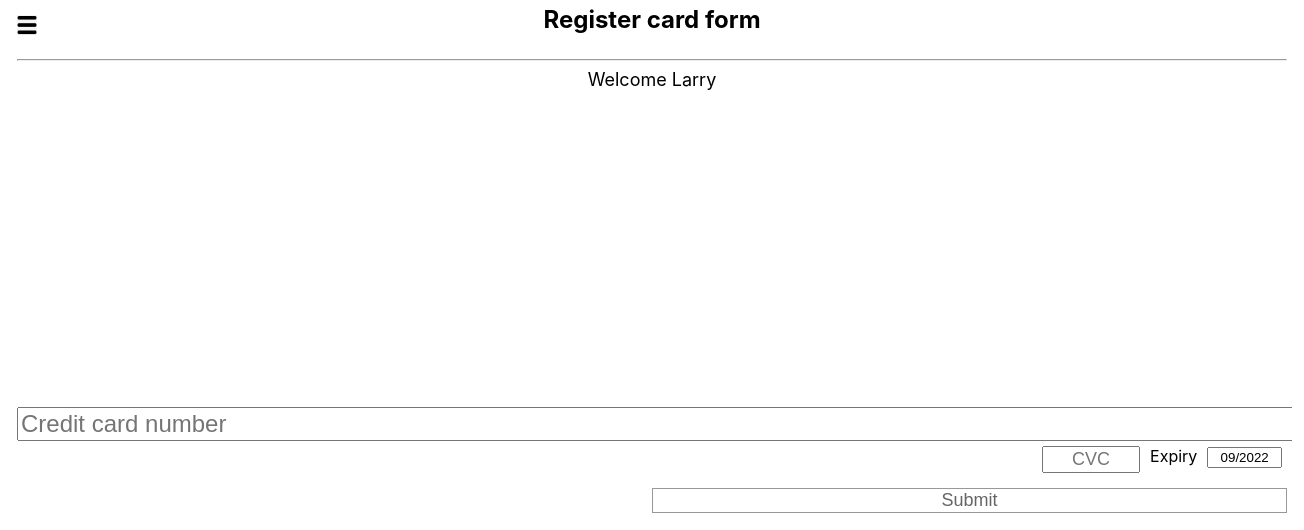
Submit button should be enabled when card number and cvc are not empty
Type "1234567890123456" into the field with placeholder "Credit card number" at (654, 424), box [17, 407, 1292, 441]
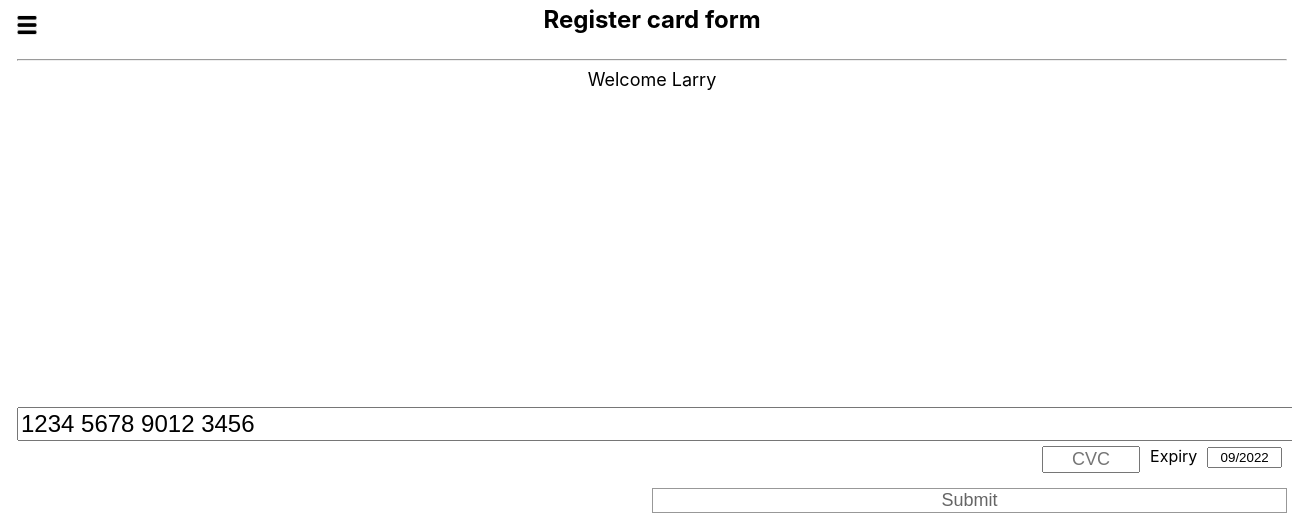
Type "123" into the field with placeholder "CVC" at (1091, 460), box [1042, 446, 1140, 473]
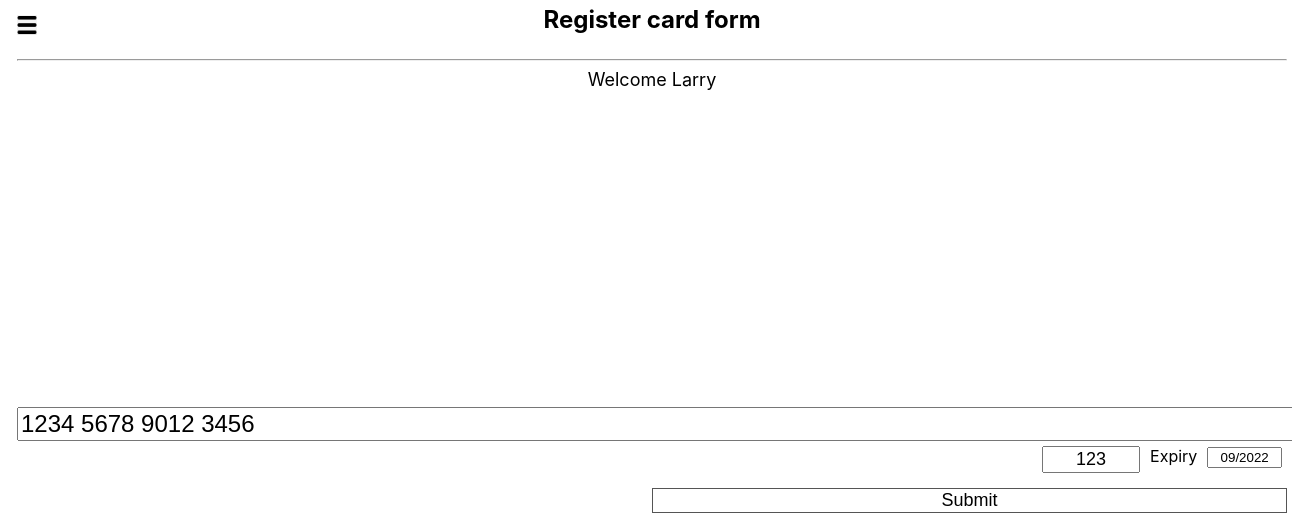
Expected: the button "Submit" is enabled, [652, 488, 1287, 513]
